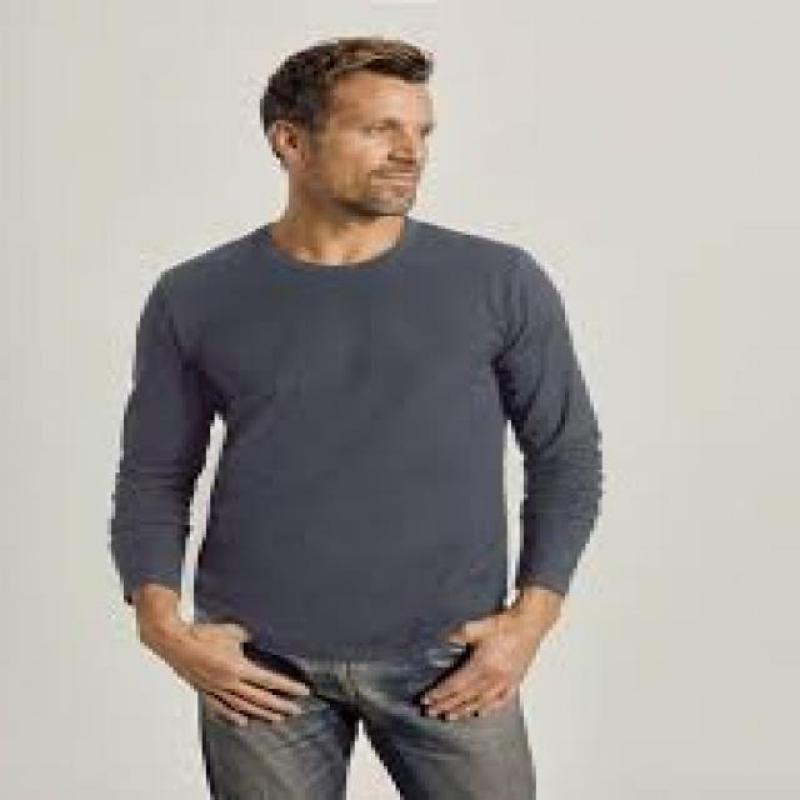long sleeve shirt: (111, 212, 605, 658)
trousers: (190, 633, 540, 800)
